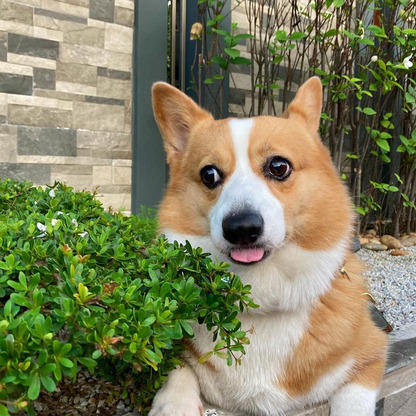Corgi: (141, 66, 387, 364)
